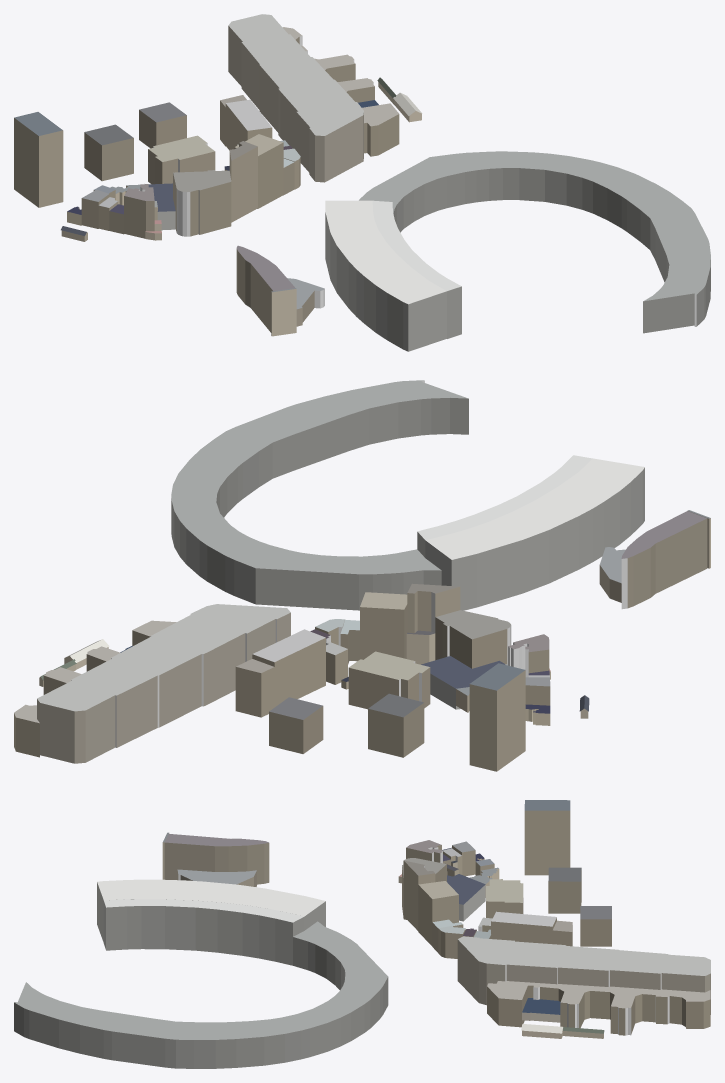
The picture shows the model from 3 angles, top to bottom: view 1: azimuth 30°, elevation 25°; view 2: azimuth 150°, elevation 25°; view 3: azimuth 270°, elevation 25°; orthographic projection. The views are drawn at different scales.
Parts seen in each view (by area): view 1: tuile; view 2: tuile; view 3: tuile.
Part boxes in pixels (left/top/right/bottom): tuile: left=14, top=14, right=710, bottom=351; tuile: left=14, top=380, right=710, bottom=771; tuile: left=14, top=800, right=710, bottom=1068.
Size of the model in its own units: 278 by 45.45 by 390.
